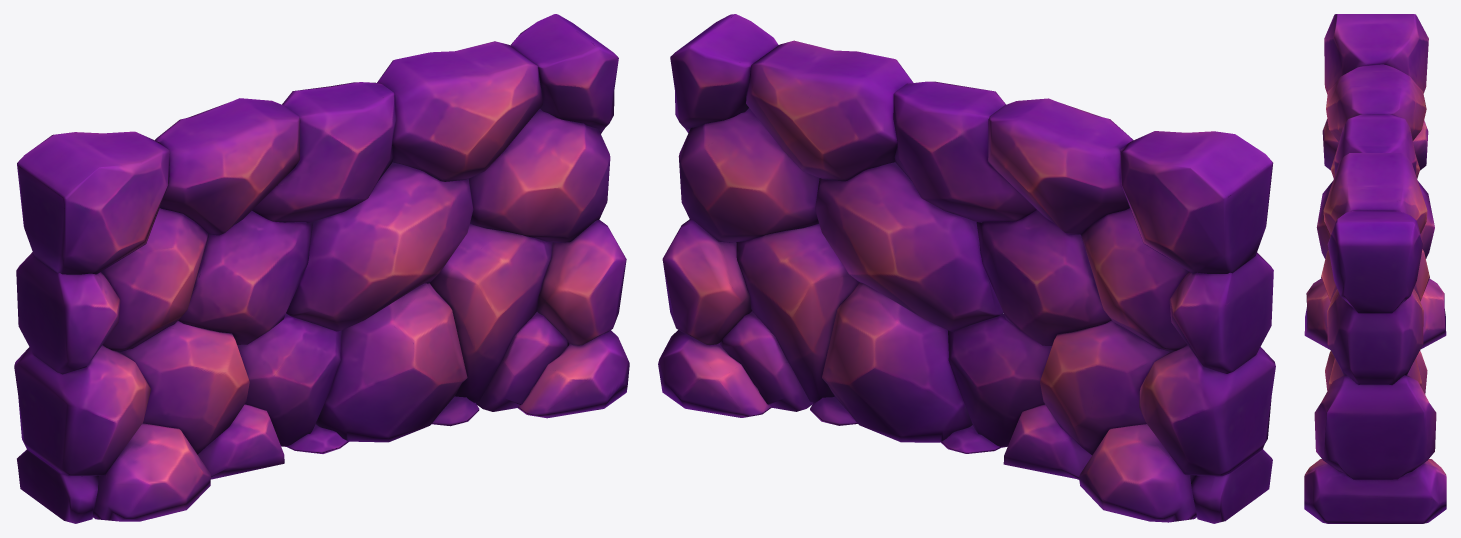
Rendered from Inside_wall_1.glb.
3 views of the same model, side by side, from view 1: azimuth 30°, elevation 25°; view 2: azimuth 150°, elevation 25°; view 3: azimuth 270°, elevation 25° (orthographic). The views are drawn at different scales.
Visible parts, largest first — view 1: geometry_0; view 2: geometry_0; view 3: geometry_0.
Boxes of the visible parts, bbox=[...] form: geometry_0: bbox=[14, 14, 629, 523]; geometry_0: bbox=[658, 14, 1275, 523]; geometry_0: bbox=[1304, 14, 1446, 523].
Size of the model in its own units: 0.9604 by 0.5693 by 0.2495.
1 material, 1 textured.
